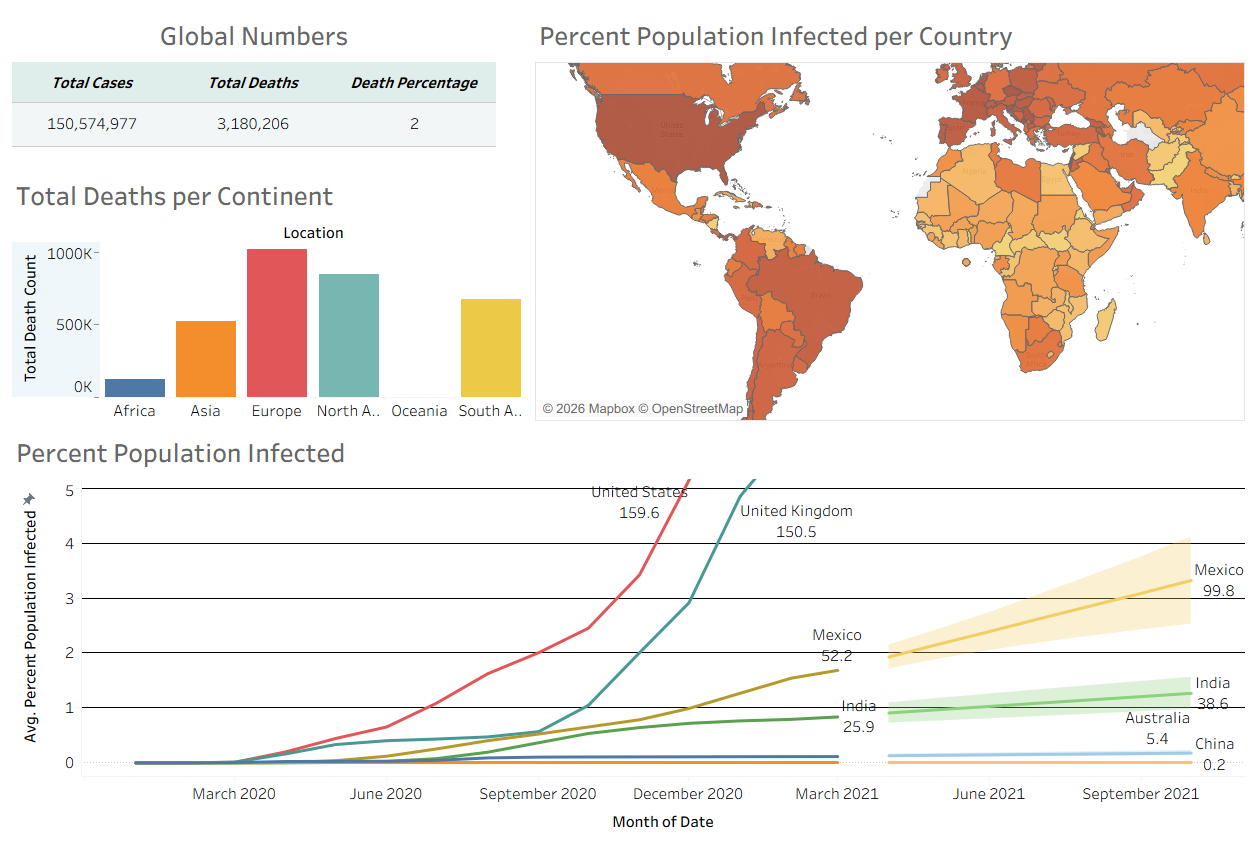

The page's visual inventory and layout, read from the dashboard file:
{"tool":"tableau","page":{"name":"Dashboard 1","canvas":[1000,1000],"units":"permille","ordinal":0},"visuals":[{"type":"worksheet","title":"Sheet 1","mark":"Automatic","box":[6.4,9.4,416.1,187.9]},{"type":"worksheet","title":"Sheet 3","mark":"Multipolygon","box":[422.4,9.4,571.2,490.6]},{"type":"worksheet","title":"Sheet 2","mark":"Automatic","rows":["TotalDeathCount"],"cols":["location"],"box":[6.4,197.3,416.1,302.7]},{"type":"worksheet","title":"Sheet 4","mark":"Automatic","rows":["PercentPopulationInfected"],"cols":["date"],"box":[6.4,500,987.3,490.6]}]}

Visuals, with their boxes on the dashboard's canvas, which has no fixed pixel size, in thousandths of its width and height (x1, y1, x2, y2). These are canvas units, not pixel positions in the 1257x851 screenshot, which may show the page scaled, cropped or inside an application window:
"Sheet 1" worksheet: l=6, t=9, r=422, b=197
"Sheet 3" worksheet (Multipolygon marks): l=422, t=9, r=994, b=500
"Sheet 2" worksheet: l=6, t=197, r=422, b=500
"Sheet 4" worksheet: l=6, t=500, r=994, b=991
